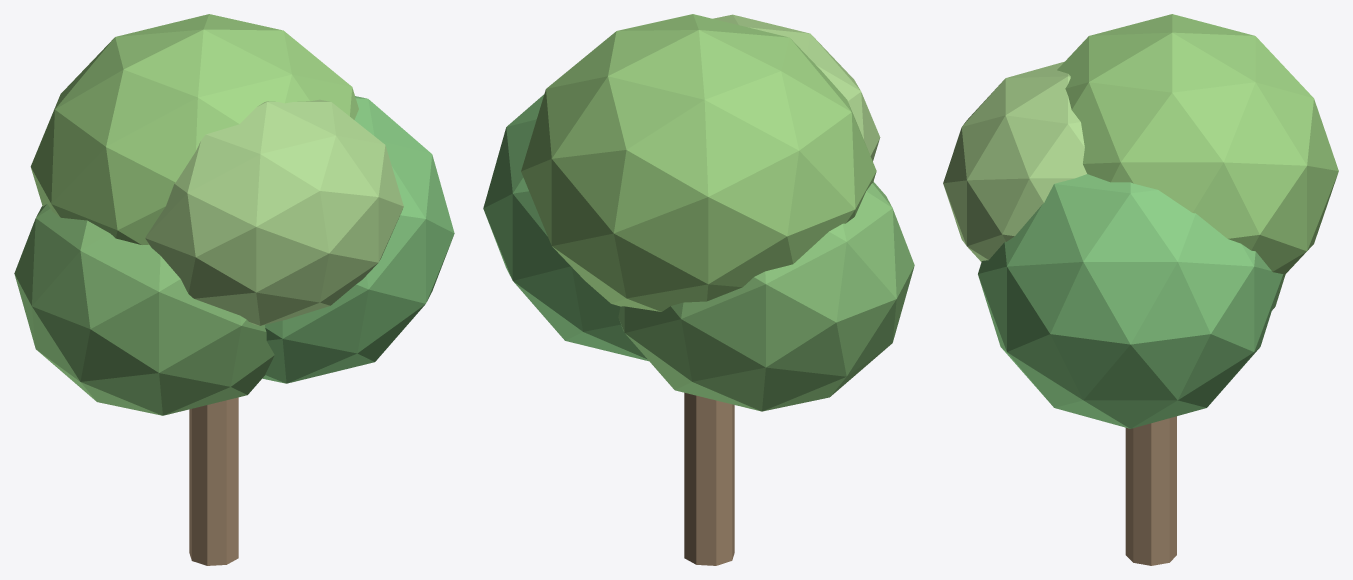
File: oak.glb
3 renders of one model, left to right at view 1: azimuth 30°, elevation 25°; view 2: azimuth 150°, elevation 25°; view 3: azimuth 270°, elevation 25°, orthographic. The views are drawn at different scales.
Parts seen in each view (by area): view 1: oak_part_4, oak_part_3, oak_part_1, oak_part_2, oak_part_0; view 2: oak_part_3, oak_part_1, oak_part_2, oak_part_0, oak_part_4; view 3: oak_part_2, oak_part_3, oak_part_4, oak_part_0.
Boxes of the visible parts, x1,y1,x2,y2 form: oak_part_4: (145, 99, 403, 325); oak_part_3: (30, 14, 358, 244); oak_part_1: (14, 204, 274, 415); oak_part_2: (262, 96, 454, 383); oak_part_0: (189, 397, 238, 565); oak_part_3: (521, 14, 876, 311); oak_part_1: (618, 181, 914, 411); oak_part_2: (483, 94, 648, 361); oak_part_0: (684, 392, 734, 565); oak_part_4: (713, 14, 880, 161); oak_part_2: (978, 174, 1283, 428); oak_part_3: (1057, 14, 1338, 277); oak_part_4: (943, 61, 1086, 261); oak_part_0: (1125, 416, 1176, 565).
Size of the model in its own units: 6.6 by 8.3 by 5.7.
